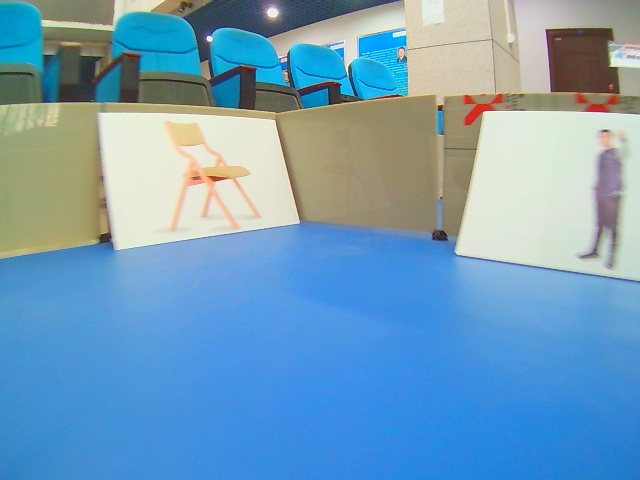person: (458, 110, 637, 284)
table: (99, 113, 302, 253)
